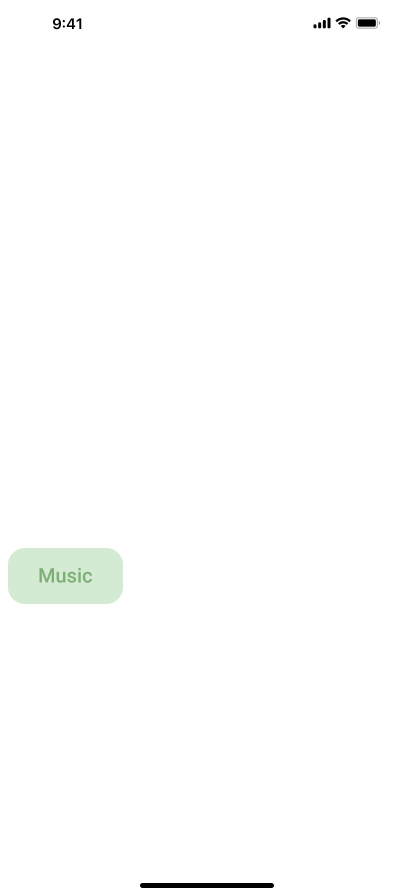Buttons: (8, 548, 131, 604)
Home Indicator: (0, 862, 414, 896)
Status Bar: (0, 0, 414, 44)
